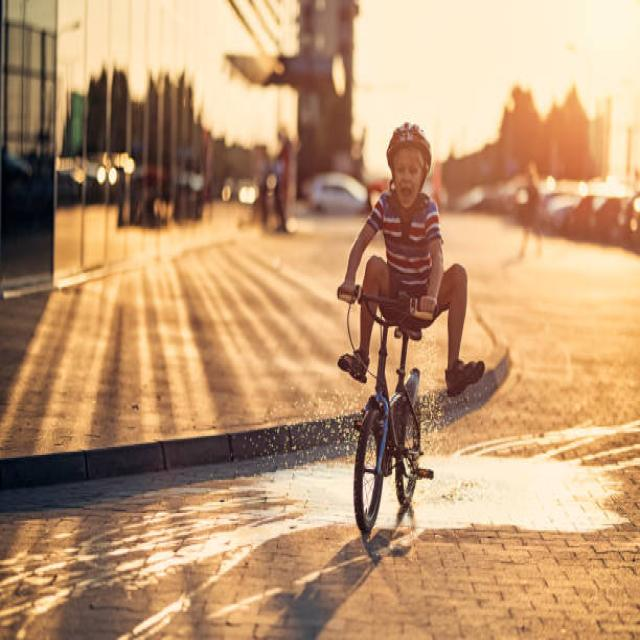bicycle: (338, 124, 484, 532)
